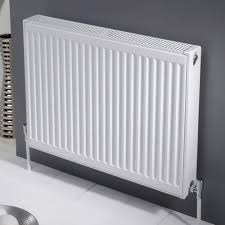Radiator: (21, 13, 205, 202)
